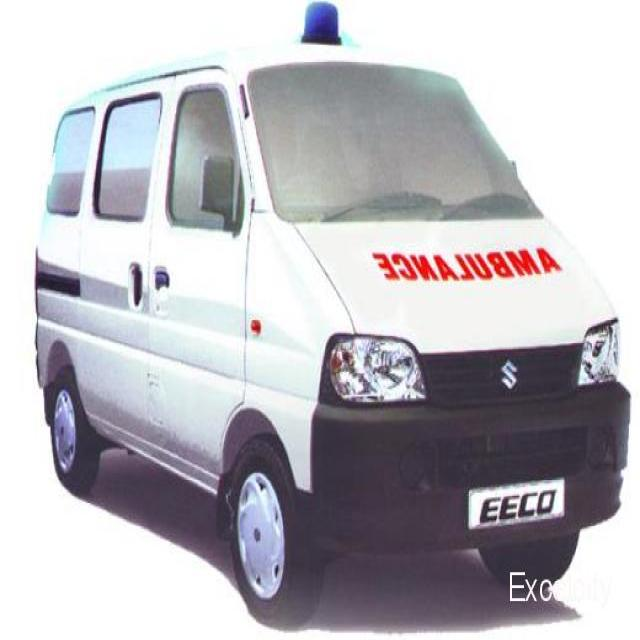ambulance: (24, 15, 619, 615)
